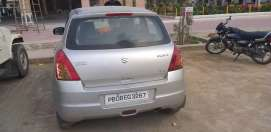license_plate: (103, 90, 149, 106)
